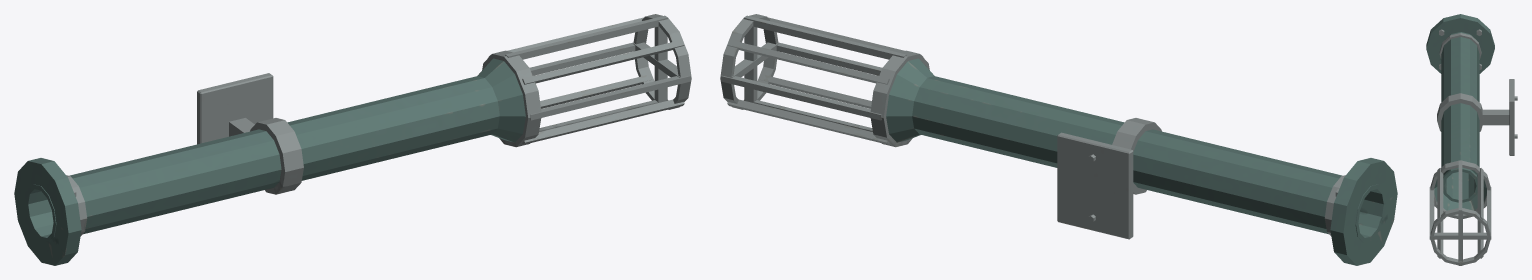
File: lake_water_intake_pipe_intake.glb
3 views of the same model, side by side, from view 1: azimuth 30°, elevation 25°; view 2: azimuth 150°, elevation 25°; view 3: azimuth 270°, elevation 25° (orthographic). The views are drawn at different scales.
Visible parts, largest first — view 1: IntakePipeIntake; view 2: IntakePipeIntake; view 3: IntakePipeIntake.
Boxes of the visible parts, x1,y1,x2,y2 form: IntakePipeIntake: (14, 14, 691, 265); IntakePipeIntake: (720, 14, 1397, 265); IntakePipeIntake: (1426, 14, 1517, 265).
Size of what is drawn, in the model's own units: 1.2 by 0.18 by 0.24.
Materials: 1 (1 with a texture image).
